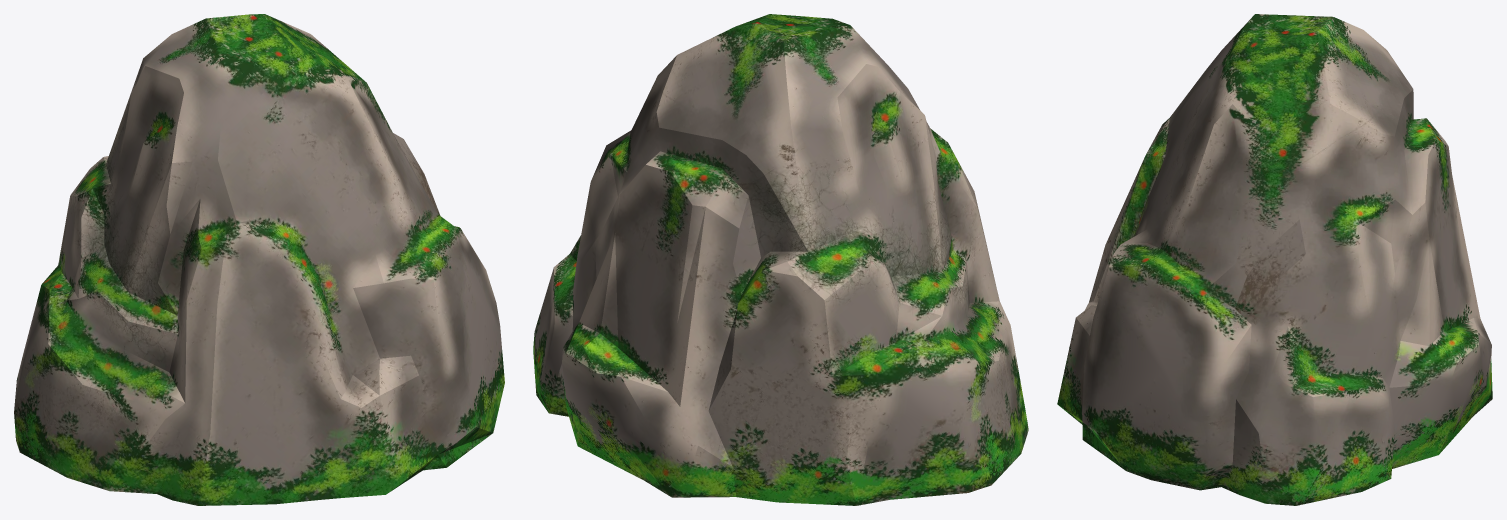
File: rock_2.glb
3 views of the same model, side by side, from view 1: azimuth 30°, elevation 25°; view 2: azimuth 150°, elevation 25°; view 3: azimuth 270°, elevation 25° (orthographic). The views are drawn at different scales.
Visible parts, largest first — view 1: Rock_02; view 2: Rock_02; view 3: Rock_02.
Boxes of the visible parts, x1,y1,x2,y2 form: Rock_02: (14,14,504,505); Rock_02: (533,14,1028,505); Rock_02: (1057,14,1492,505).
Bounding box in the file's own units: 3.84 × 3.16 × 3.34.
Materials: 1 (1 with a texture image).
